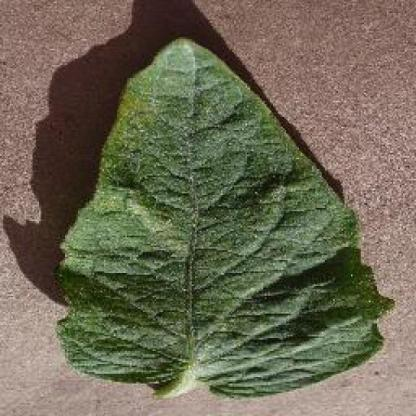Tomato_Spider_Mites: (55, 39, 396, 393)
